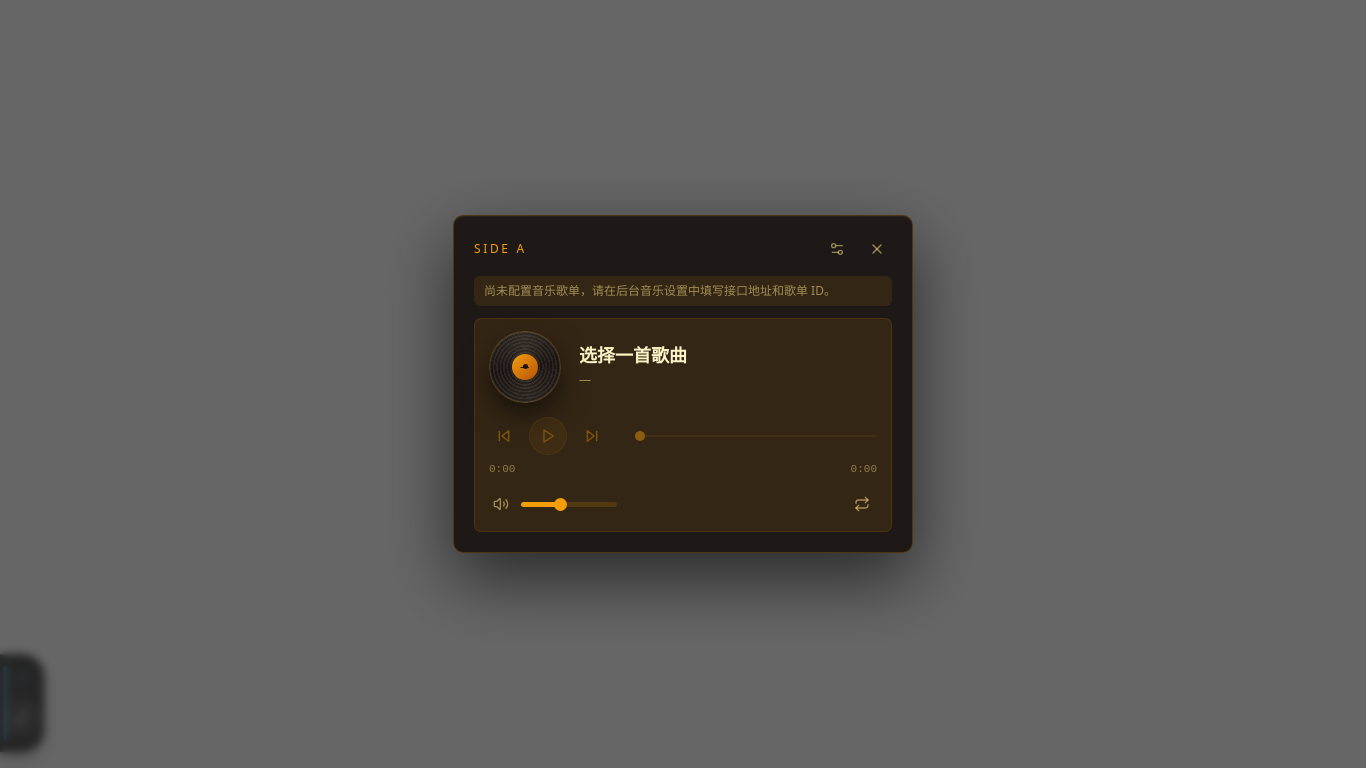
设置视图：与播放器互斥 › 打开设置后只渲染设置，播放器主体让位（不再被挤下去）
The width and height of the screenshot is (1366, 768).
Expected: the text "选择一首歌曲" is shown, x1=579 y1=343 x2=687 y2=367
Expected: the text "尚未配置音乐歌单，请在后台音乐设置中填写接口地址和歌单 ID。" is shown, x1=474 y1=276 x2=892 y2=306
Click the button named "面板设置": coordinates (837, 249) x1=822 y1=234 x2=852 y2=264
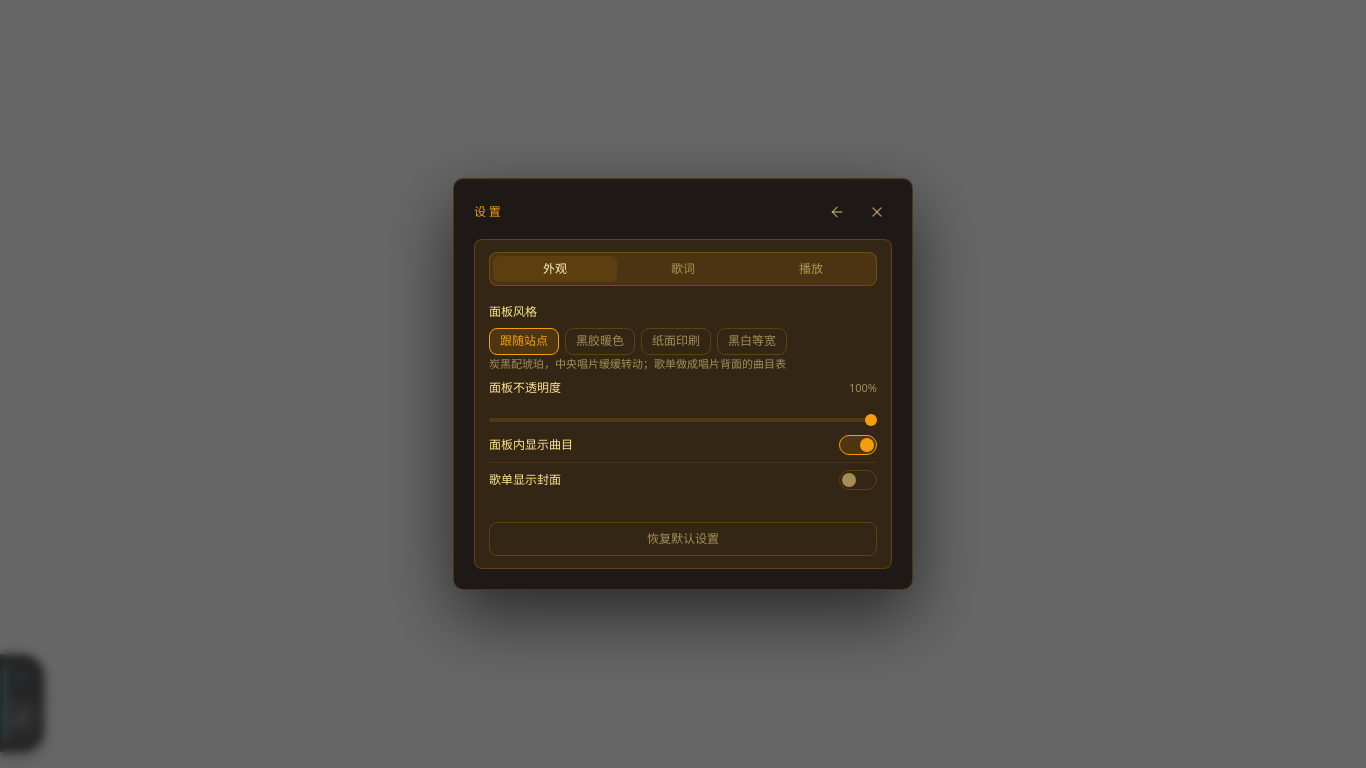
Result: the element showing "外观 歌词 播放" is shown at x1=489 y1=252 x2=877 y2=286
Result: the text "选择一首歌曲" is gone
Result: the text "尚未配置音乐歌单" is gone
